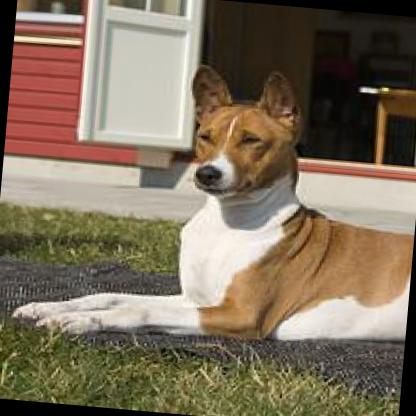basenji: (2, 47, 416, 362)
